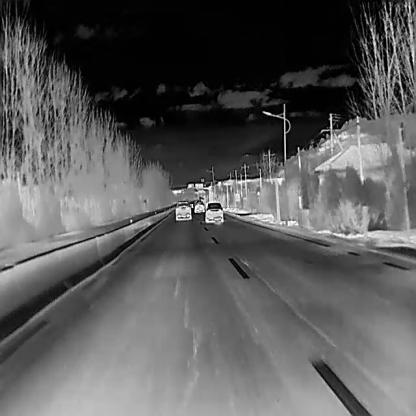car: (204, 202, 223, 224), (174, 200, 192, 220), (194, 201, 204, 213)
